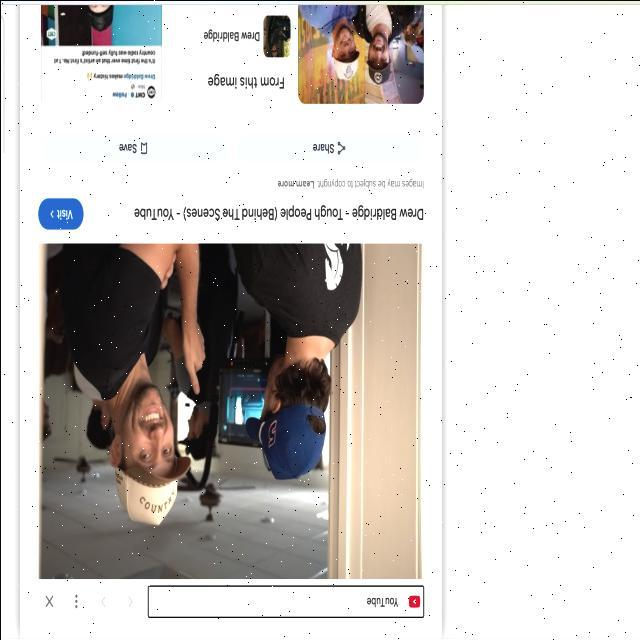face_no_mask: (110, 389, 171, 475)
